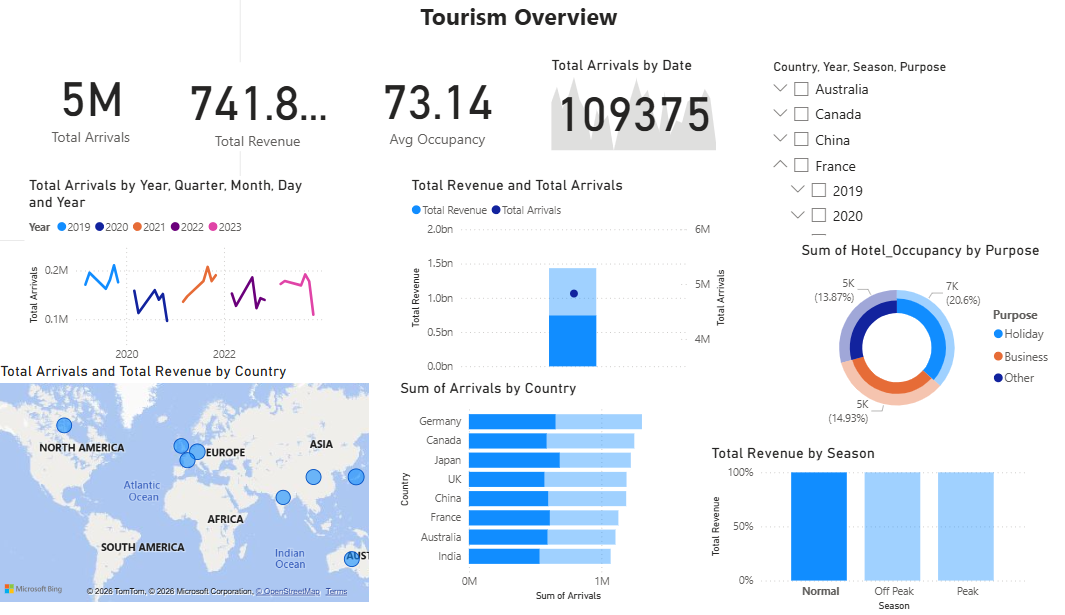

What the dashboard file says about the page in this screenshot:
{"tool":"powerbi","page":{"name":"Page 1","canvas":[1280,720],"ordinal":0},"visuals":[{"type":"textbox","box":[10,0,280,280],"z":0},{"type":"textbox","box":[490,0,251.7,56.7],"z":1000},{"type":"card","fields":{"Values":["srilanka_tourism_dataset.Total Arrivals"]},"box":[43.3,66.7,151.7,110],"z":2000},{"type":"card","fields":{"Values":["srilanka_tourism_dataset.Total Revenue"]},"box":[218.3,75,181.7,101.7],"z":3000},{"type":"card","fields":{"Values":["srilanka_tourism_dataset.Avg Occupancy"]},"box":[425,60,178.3,130],"z":5000},{"type":"kpi","fields":{"TrendLine":["srilanka_tourism_dataset.Date"],"Indicator":["srilanka_tourism_dataset.Total Arrivals"]},"box":[640,68.3,198.3,113.3],"z":6000},{"type":"lineChart","fields":{"Series":["srilanka_tourism_dataset.Year"],"Category":["srilanka_tourism_dataset.Date.Variation.Date Hierarchy.Year","srilanka_tourism_dataset.Date.Variation.Date Hierarchy.Quarter","srilanka_tourism_dataset.Date.Variation.Date Hierarchy.Month","srilanka_tourism_dataset.Date.Variation.Date Hierarchy.Day"],"Y":["srilanka_tourism_dataset.Total Arrivals"]},"box":[43.3,205,348.3,231.7],"z":7000},{"type":"lineClusteredColumnComboChart","fields":{"Y2":["srilanka_tourism_dataset.Total Arrivals"],"Y":["srilanka_tourism_dataset.Total Revenue"]},"box":[480,205,370,231.7],"z":8000},{"type":"hundredPercentStackedColumnChart","fields":{"Category":["srilanka_tourism_dataset.Season"],"Y":["srilanka_tourism_dataset.Total Revenue"]},"box":[823.3,511.7,370,196.7],"z":9000},{"type":"map","fields":{"Category":["srilanka_tourism_dataset.Country"],"Size":["srilanka_tourism_dataset.Total Arrivals"]},"box":[10,418.3,431.7,278.3],"z":10000},{"type":"barChart","fields":{"Category":["srilanka_tourism_dataset.Country"],"Y":["Sum(srilanka_tourism_dataset.Arrivals)"]},"box":[466.7,436.7,330,260],"z":11000},{"type":"donutChart","fields":{"Y":["Sum(srilanka_tourism_dataset.Hotel_Occupancy)"],"Category":["srilanka_tourism_dataset.Purpose"]},"box":[925,280,301.7,225],"z":12000},{"type":"slicer","fields":{"Values":["srilanka_tourism_dataset.Country","srilanka_tourism_dataset.Year","srilanka_tourism_dataset.Season","srilanka_tourism_dataset.Purpose"]},"box":[885.7,67.1,380,211.4],"z":12001}]}

Visuals, with their boxes in screenshot pixels (x1, y1, x2, y2), scaled from the page's 1280x720 canvas onto the 1065x615 screenshot:
textbox: x1=8 y1=0 x2=241 y2=239
textbox: x1=408 y1=0 x2=617 y2=48
card - srilanka_tourism_dataset.Total Arrivals: x1=36 y1=57 x2=162 y2=151
card - srilanka_tourism_dataset.Total Revenue: x1=182 y1=64 x2=333 y2=151
card - srilanka_tourism_dataset.Avg Occupancy: x1=354 y1=51 x2=502 y2=162
kpi - srilanka_tourism_dataset.Date x srilanka_tourism_dataset.Total Arrivals: x1=532 y1=58 x2=697 y2=155
lineChart - srilanka_tourism_dataset.Year x srilanka_tourism_dataset.Date.Variation.Date Hierarchy.Year: x1=36 y1=175 x2=326 y2=373
lineClusteredColumnComboChart - srilanka_tourism_dataset.Total Arrivals x srilanka_tourism_dataset.Total Revenue: x1=399 y1=175 x2=707 y2=373
hundredPercentStackedColumnChart - srilanka_tourism_dataset.Season x srilanka_tourism_dataset.Total Revenue: x1=685 y1=437 x2=993 y2=605
map - srilanka_tourism_dataset.Country x srilanka_tourism_dataset.Total Arrivals: x1=8 y1=357 x2=368 y2=595
barChart - srilanka_tourism_dataset.Country x Sum(srilanka_tourism_dataset.Arrivals): x1=388 y1=373 x2=663 y2=595
donutChart - Sum(srilanka_tourism_dataset.Hotel_Occupancy) x srilanka_tourism_dataset.Purpose: x1=770 y1=239 x2=1021 y2=431
slicer - srilanka_tourism_dataset.Country x srilanka_tourism_dataset.Year: x1=737 y1=57 x2=1053 y2=238
